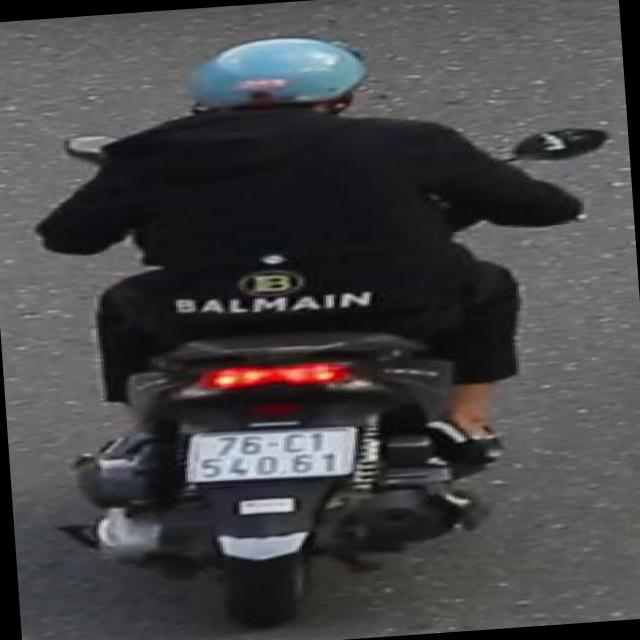LP: (179, 417, 362, 488)
helmet: (174, 27, 372, 130)
